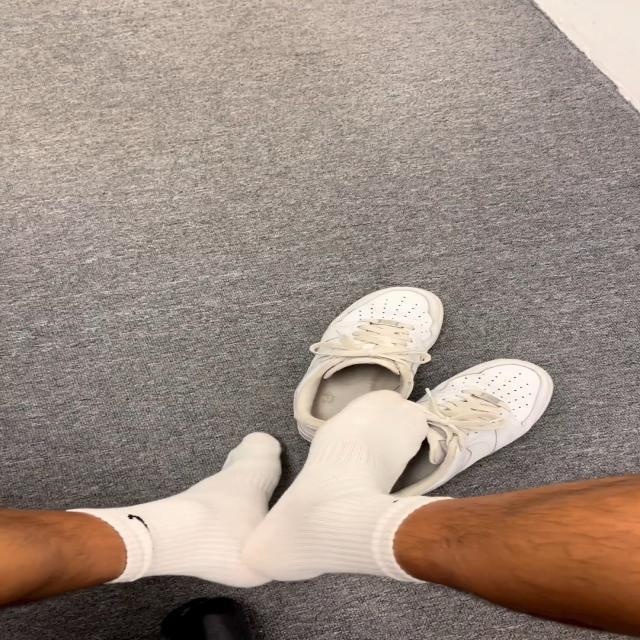nike original air force: (294, 288, 456, 446), (392, 362, 558, 502)
